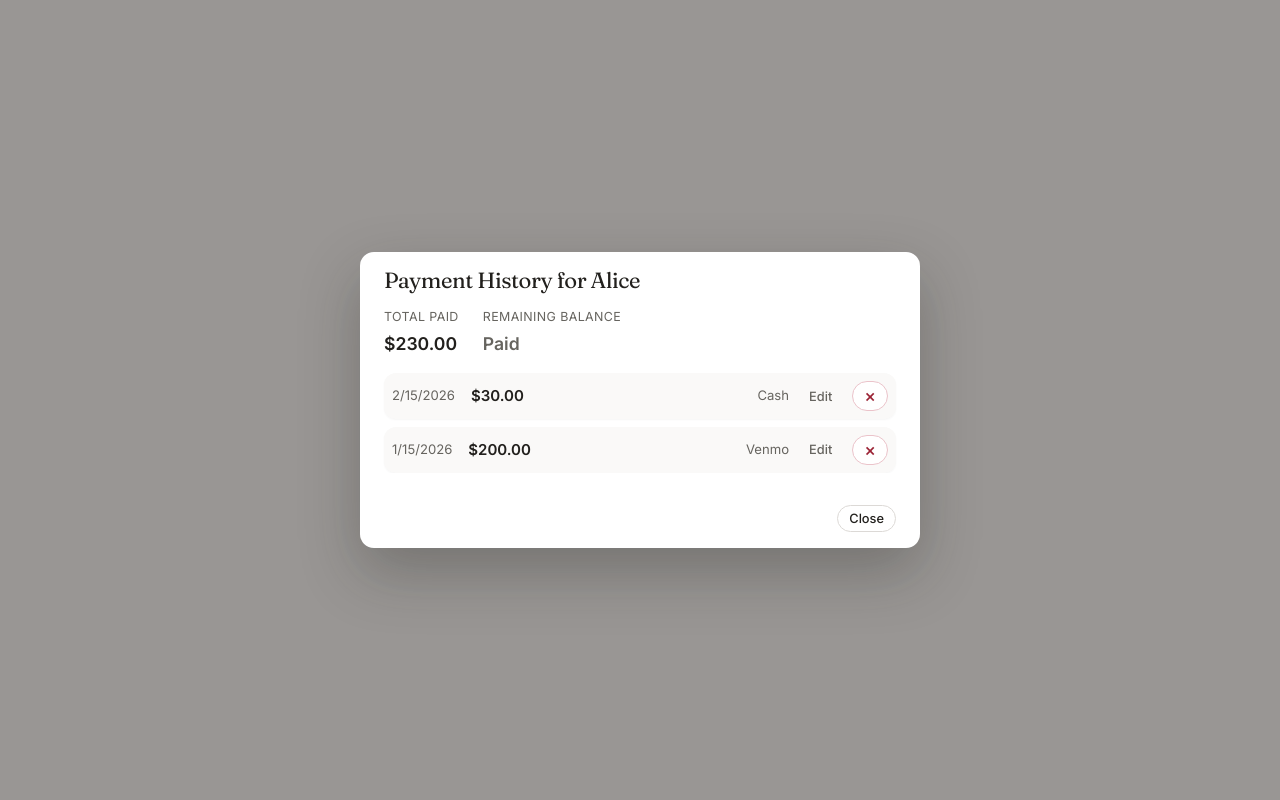
Test: PaymentHistoryDialog — reversal-after-refund warning (#331) › avoids a false "$0.00 Outstanding" when a partial refund leaves the household in credit
Click the button titled "Reverse this payment" in the row of "Cash" at (870, 396), box [852,381,888,411]
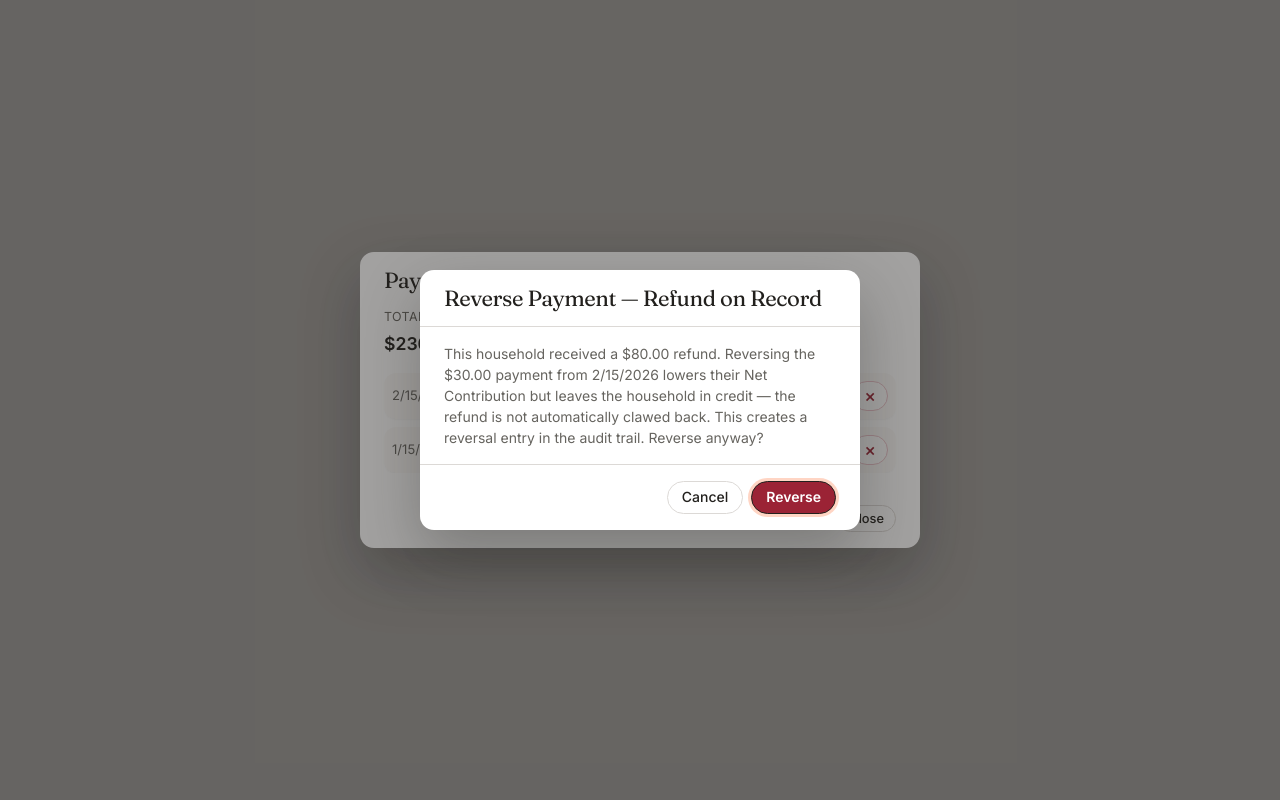
Check: the text with class "confirmation-message" shows "$80.00 refund", box [444,345,815,446]
Check: the text with class "confirmation-message" shows "leaves the household in credit", box [444,345,815,446]
Check: the text with class "confirmation-message" shows "not automatically clawed back", box [444,345,815,446]
